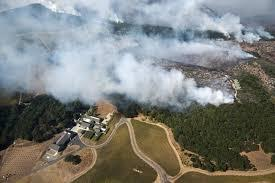yanwu: (1, 1, 273, 107)
